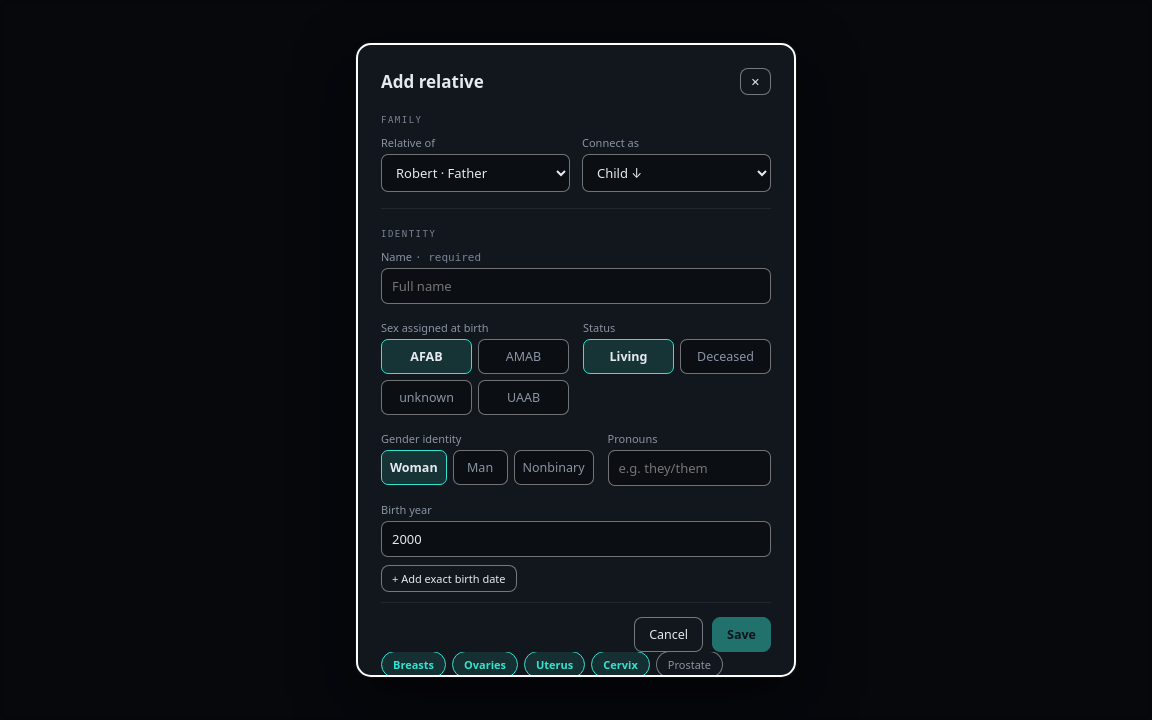
Scenario: PersonForm — save validation › disables Save and explains why when the chosen anchor already has two recorded parents
Type "Third Parent" into the field labelled "Name · required".
click(576, 286); type("Third Parent")  # box x1=381 y1=268 x2=771 y2=304
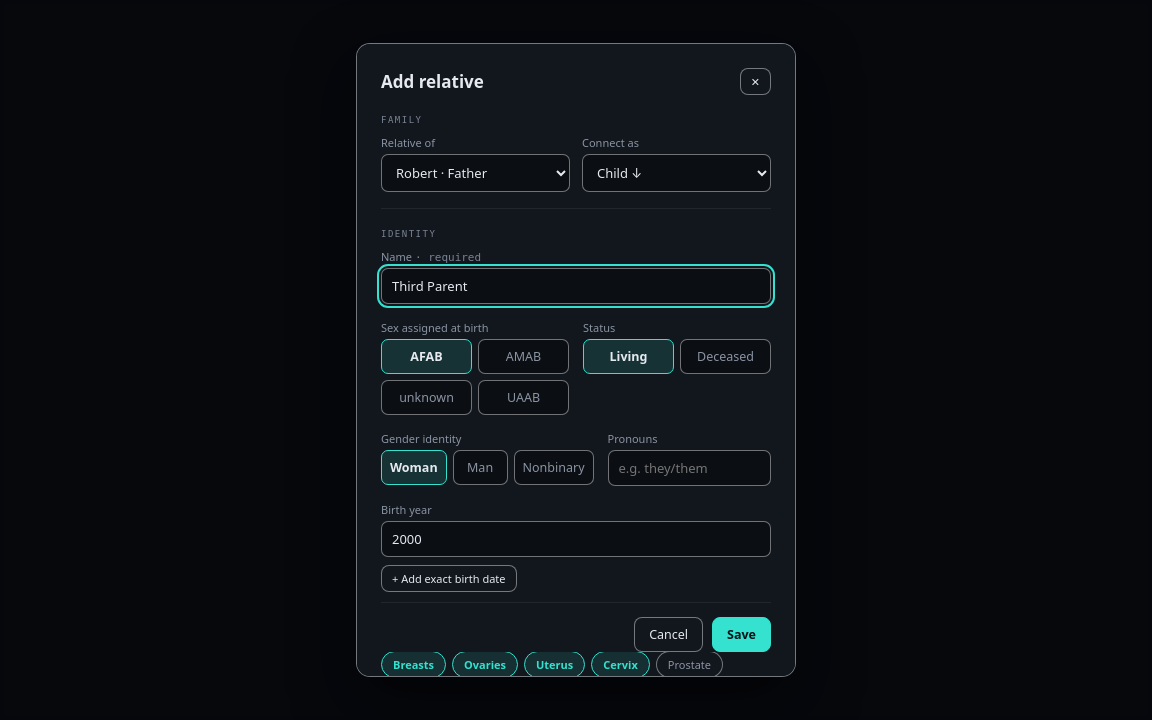
Select "Parent ↑" in the dropdown labelled "Connect as" at [676, 173], box x1=582 y1=154 x2=771 y2=192
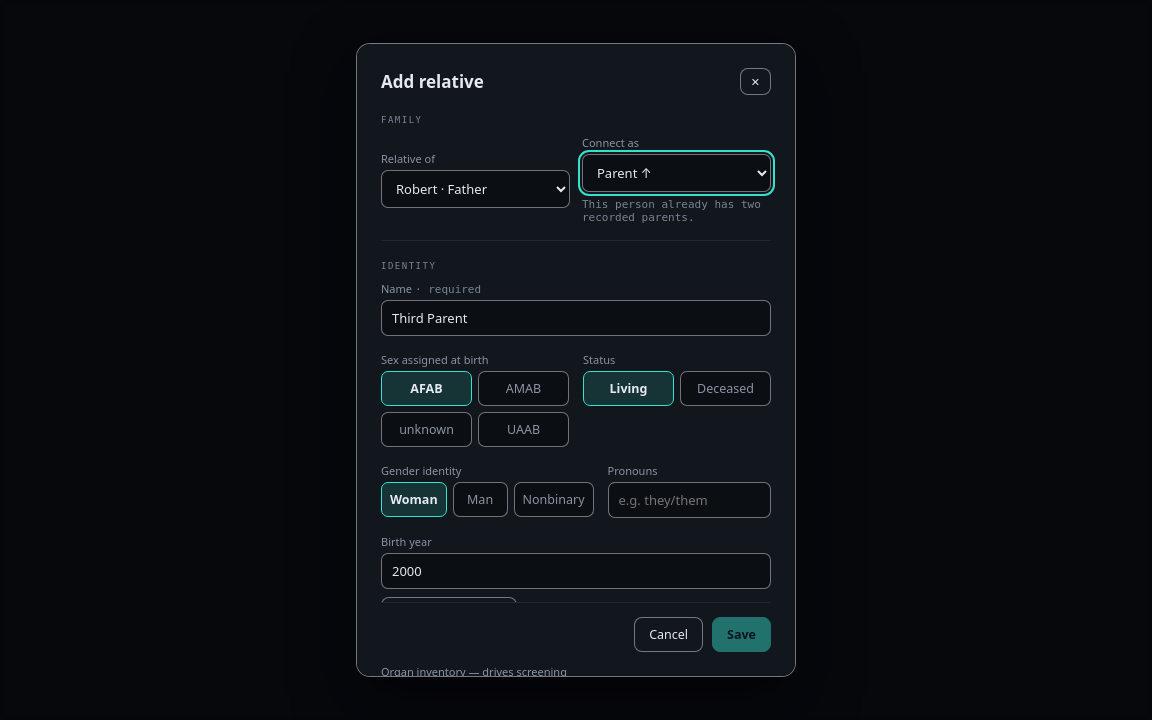
Check: the text "This person already has two recorded parents." is shown, box x1=582 y1=198 x2=771 y2=224
Check: the button "Save" is disabled, box x1=712 y1=617 x2=771 y2=652
